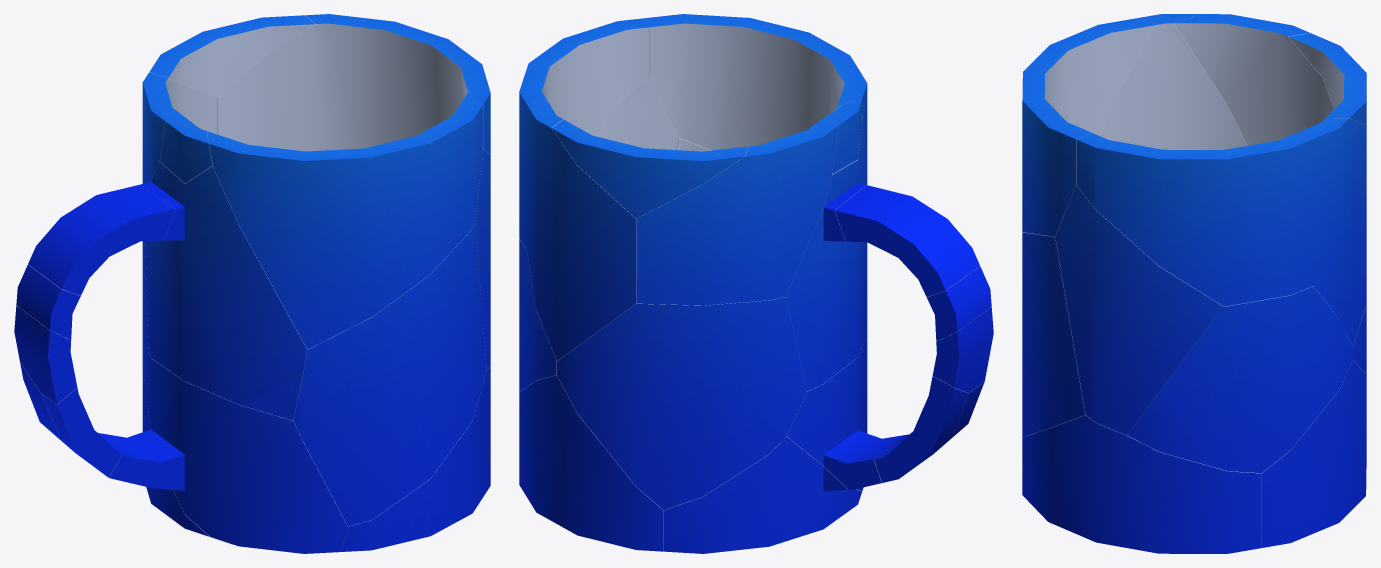
Rendered from Cup.fbx.
3 renders of one model, left to right at view 1: azimuth 30°, elevation 25°; view 2: azimuth 150°, elevation 25°; view 3: azimuth 270°, elevation 25°, orthographic.
Parts seen in each view (by area): view 1: Cup_cell17, Cup_cell4, Cup_cell5, Cup_cell12, Cup_cell16, Cup_cell7, Cup_cell6, Cup_cell18, Cup_cell21, Cup_cell10, Cup_cell20, Cup_cell15 (+6 smaller); view 2: Cup_cell1, Cup_cell10, Cup_cell17, Cup_cell16, Cup_cell2, Cup_cell14, Cup_cell5, Cup_cell7, Cup_cell18, Cup_cell21, Cup_cell12, Cup_cell8 (+6 smaller); view 3: Cup_cell7, Cup_cell11, Cup_cell9, Cup_cell17, Cup_cell10, Cup_cell13, Cup_cell2, Cup_cell6, Cup_cell5, Cup_cell16, Cup_cell4, Cup_cell21 (+2 smaller).
Part boxes in pixels (x1,y1,x2,y2): Cup_cell17: (207,101,482,349); Cup_cell4: (293,223,486,526); Cup_cell5: (140,127,307,420); Cup_cell12: (100,352,347,553); Cup_cell16: (217,14,364,151); Cup_cell7: (361,18,490,154); Cup_cell6: (341,367,490,551); Cup_cell18: (28,184,175,295); Cup_cell21: (149,15,315,97); Cup_cell10: (142,72,217,183); Cup_cell20: (14,305,77,404); Cup_cell15: (41,388,121,477); Cup_cell1: (557,297,806,510); Cup_cell10: (636,112,837,305); Cup_cell17: (644,14,867,152); Cup_cell16: (527,101,636,360); Cup_cell2: (519,375,663,551); Cup_cell14: (663,436,862,553); Cup_cell5: (786,105,867,391); Cup_cell7: (519,18,648,249); Cup_cell18: (835,185,979,296); Cup_cell21: (551,119,747,218); Cup_cell12: (787,335,909,490); Cup_cell8: (874,376,968,482); Cup_cell7: (1076,133,1313,305); Cup_cell11: (1127,286,1352,473); Cup_cell9: (1055,185,1222,435); Cup_cell17: (1022,19,1157,236); Cup_cell10: (1174,14,1334,145); Cup_cell13: (1127,436,1261,553); Cup_cell2: (1261,360,1366,547); Cup_cell6: (1022,415,1127,547); Cup_cell5: (1101,23,1247,149); Cup_cell16: (1296,118,1366,345); Cup_cell4: (1022,232,1085,437); Cup_cell21: (1289,33,1366,134).
Bounding box in the file's own units: 408 × 354 × 280.
1 material, 1 textured.
